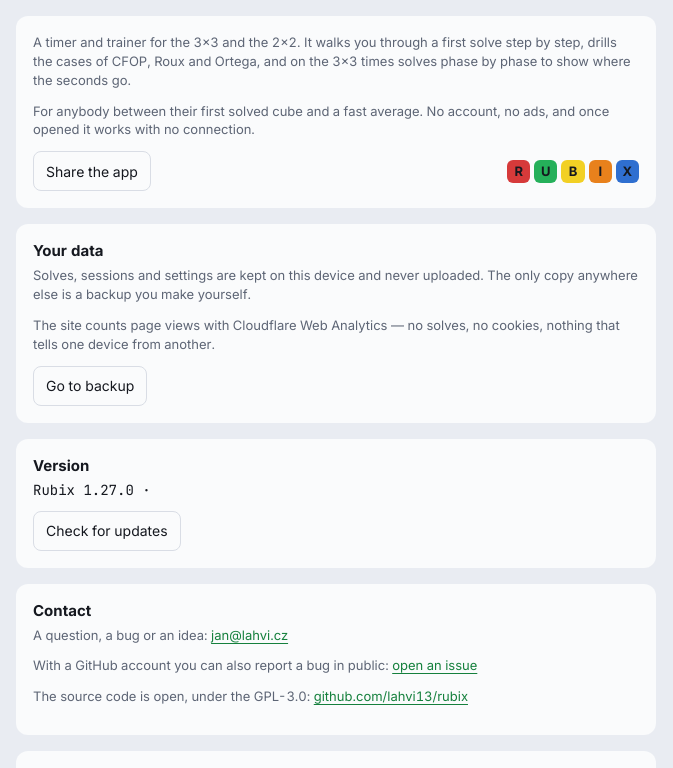
Test: AboutScreen › copies the link where there is no share sheet
Click the button "Share the app" at (92,171), box x1=33 y1=151 x2=151 y2=191
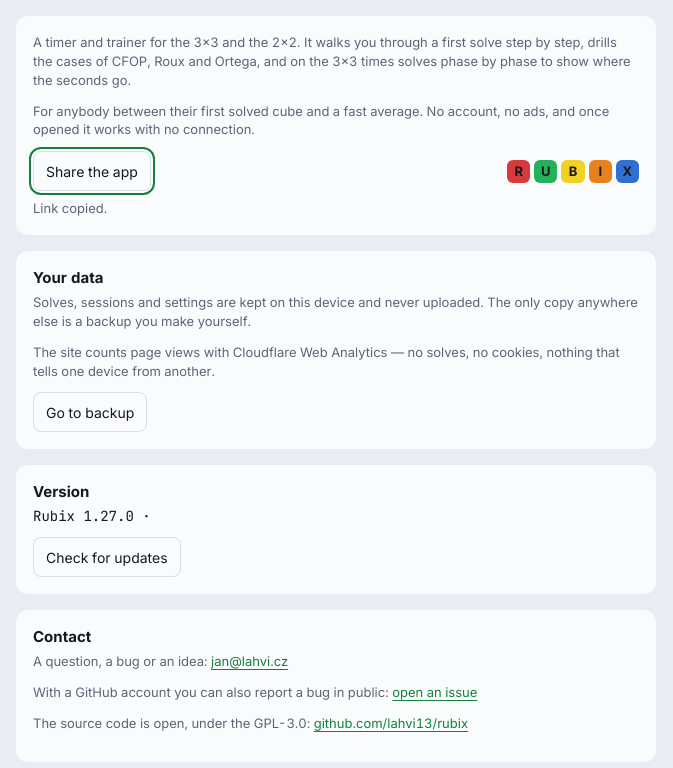
Now the text "Link copied." is shown, box x1=33 y1=200 x2=107 y2=216
